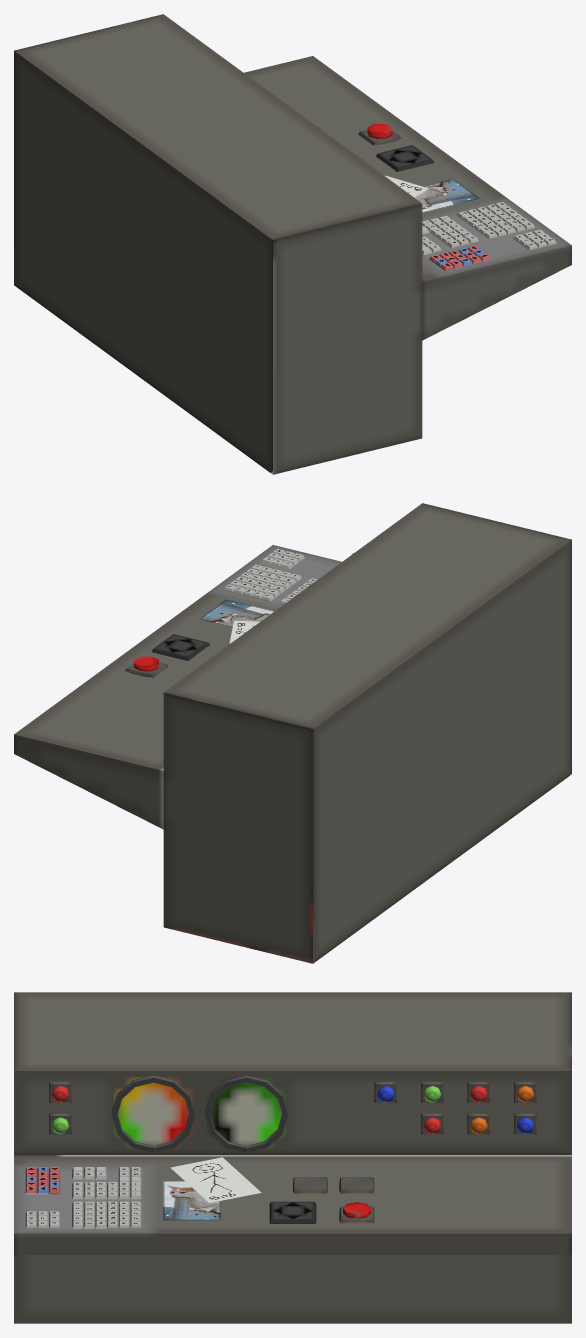
The model's file is crane_console_body.obj.
3 views of the same model, one above another, from view 1: azimuth 30°, elevation 25°; view 2: azimuth 150°, elevation 25°; view 3: azimuth 270°, elevation 25° (orthographic). The views are drawn at different scales.
Parts seen in each view (by area): view 1: Console_Coonsole; view 2: Console_Coonsole; view 3: Console_Coonsole.
Boxes of the visible parts, <box> form: Console_Coonsole: <box>14,14,571,474</box>; Console_Coonsole: <box>14,503,571,963</box>; Console_Coonsole: <box>14,992,571,1323</box>.
Bounding box in the file's own units: 2 × 1.5 × 3.
